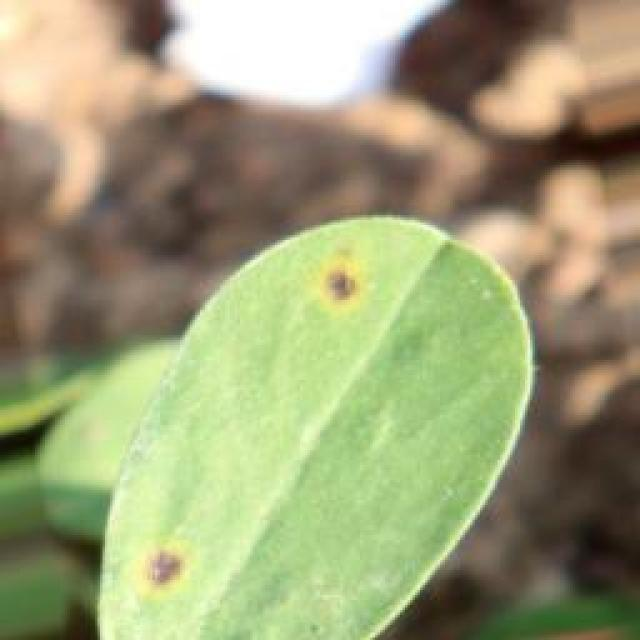Sigatoka: (270, 240, 395, 362), (119, 524, 226, 605)
